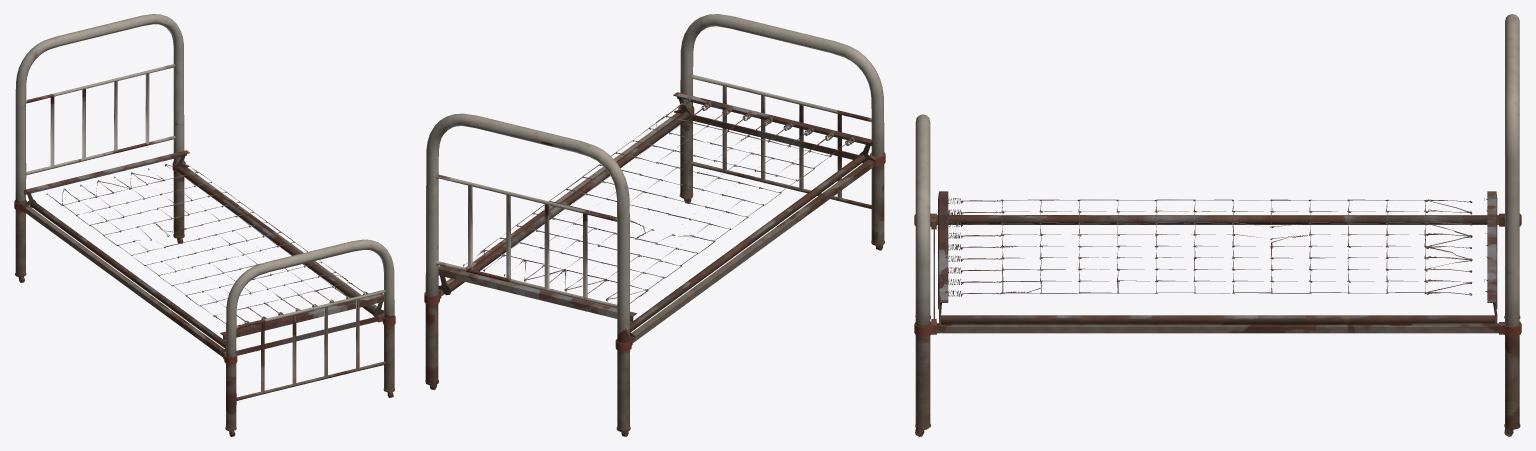
File: bed.glb
3 renders of one model, left to right at view 1: azimuth 30°, elevation 25°; view 2: azimuth 150°, elevation 25°; view 3: azimuth 270°, elevation 25°, orthographic. The views are drawn at different scales.
Parts seen in each view (by area): view 1: old_bed_frame; view 2: old_bed_frame; view 3: old_bed_frame.
Boxes of the visible parts, x1,y1,x2,y2 form: old_bed_frame: (14,14,395,436); old_bed_frame: (424,14,885,436); old_bed_frame: (914,14,1521,436).
Bounding box in the file's own units: 0.9047 × 1.2 × 2.
1 material, 1 textured.
